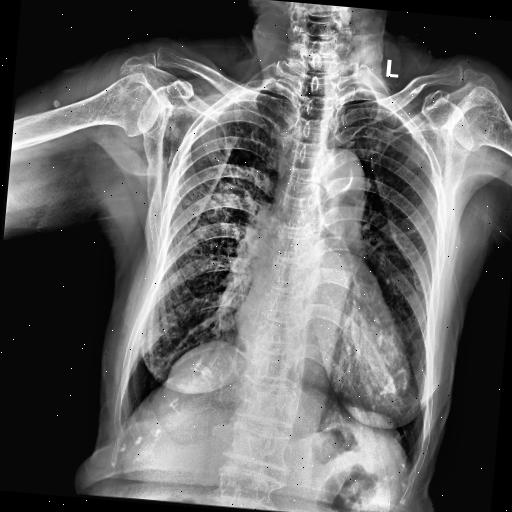0- Aortic enlargement: (310, 147, 372, 228), (315, 147, 370, 225), (317, 144, 369, 203)
3- Cardiomegaly: (229, 280, 417, 419), (226, 292, 418, 414), (228, 302, 416, 416)
5- ILD: (172, 130, 254, 296)
